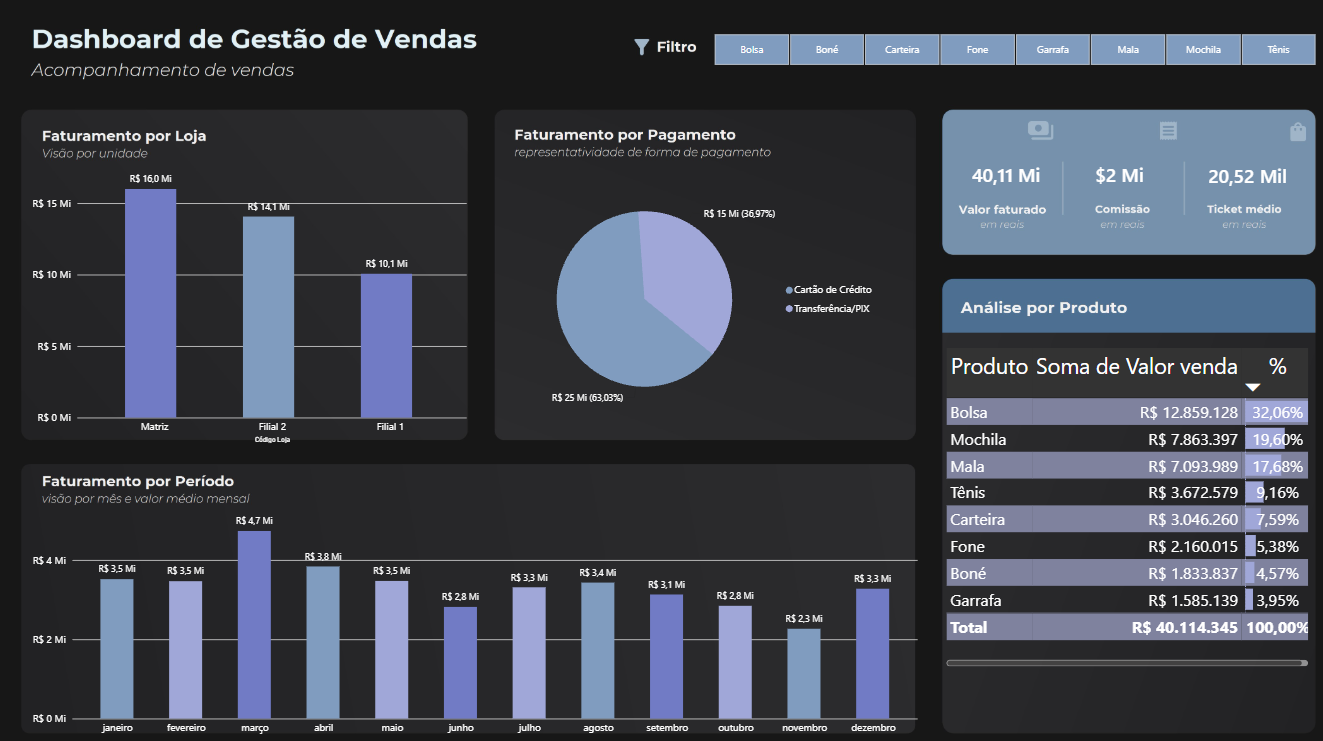

The page's visual inventory and layout, read from the dashboard file:
{"tool":"powerbi","page":{"name":"Página 1","canvas":[1920,1080],"ordinal":0},"visuals":[{"type":"cardVisual","fields":{"Data":["Sum(vendas.Valor venda)"]},"box":[1377.3,197,170,102],"z":0},{"type":"cardVisual","fields":{"Data":["Avg(vendas.Valor venda)"]},"box":[1731.5,191.3,146.5,114.4],"z":1000},{"type":"columnChart","title":"Faturamento por pedido ","fields":{"Category":["vendas.Data Pedido.Variação.Hierarquia de datas.Mês"],"Y":["Sum(vendas.Valor venda)"]},"box":[82.2,719.8,1255.4,335.8],"z":2000},{"type":"pieChart","title":"Faturamento por pagamento ","fields":{"Category":["vendas.Pagamento"],"Y":["Sum(vendas.Valor venda)"]},"box":[751,235.2,529.9,379.7],"z":3000},{"type":"columnChart","title":"Faturamento por loja","fields":{"Category":["vendas.Código Loja"],"Y":["Sum(vendas.Valor venda)"]},"box":[82.2,235.2,616.4,393.9],"z":4000},{"type":"tableEx","fields":{"Values":["vendas.Produto","Sum(vendas.Valor venda)","Divide(Sum(vendas.Valor venda), ScopedEval(Sum(vendas.Valor venda), []))"]},"box":[1377.3,494.5,512.9,450.6],"z":5000},{"type":"slicer","fields":{"Values":["vendas.Produto"]},"box":[1028.7,48.2,891.3,46.8],"z":6000},{"type":"cardVisual","fields":{"Data":["vendas.Comissao"]},"box":[1572.8,197,170,102],"z":6002}]}

Visuals, with their boxes in screenshot pixels (x1, y1, x2, y2), scaled from the page's 1920x1080 canvas onto the 1323x741 screenshot:
cardVisual - Sum(vendas.Valor venda): bbox=[949, 135, 1066, 205]
cardVisual - Avg(vendas.Valor venda): bbox=[1193, 131, 1294, 210]
"Faturamento por pedido " columnChart: bbox=[57, 494, 922, 724]
"Faturamento por pagamento " pieChart: bbox=[517, 161, 883, 422]
"Faturamento por loja" columnChart: bbox=[57, 161, 481, 432]
tableEx - vendas.Produto x Sum(vendas.Valor venda): bbox=[949, 339, 1302, 648]
slicer - vendas.Produto: bbox=[709, 33, 1322, 65]
cardVisual - vendas.Comissao: bbox=[1084, 135, 1201, 205]
